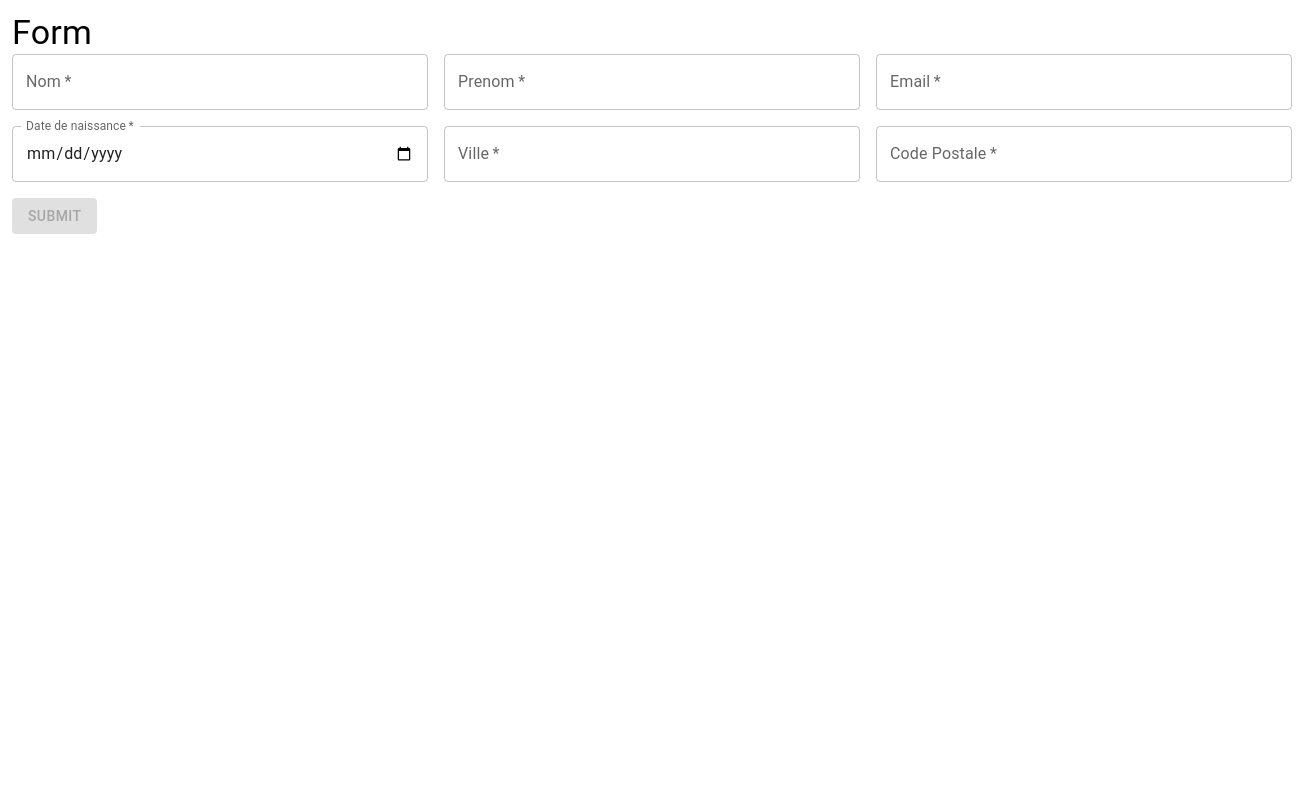
Form coverage tests › affiche le helperText d'erreur sur le champ nom si nom invalide
In the field labelled "Nom *": (220, 82) [12,54,428,110], type "123"
In the field labelled "Prenom *": (652, 82) [444,54,860,110], type "Dupont"
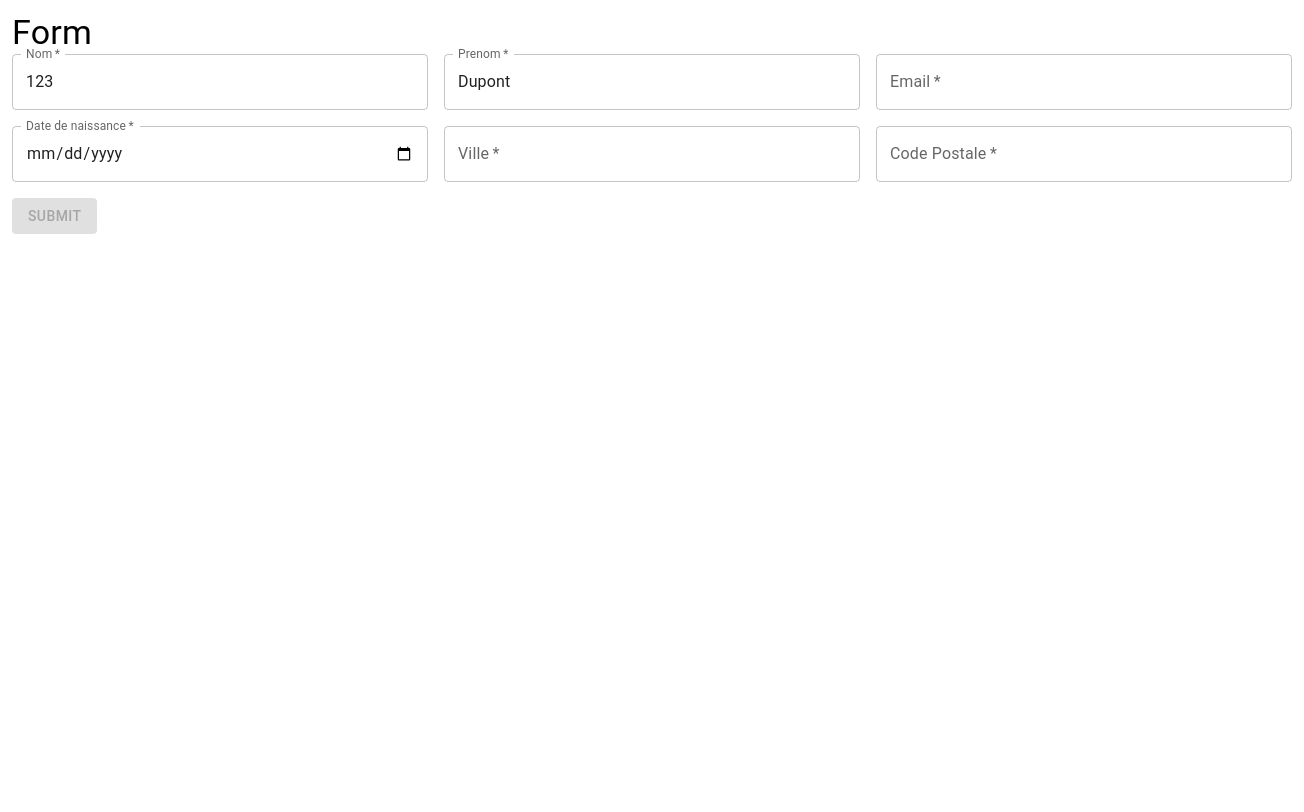
In the field labelled "Email *": (1084, 82) [876,54,1292,110], type "jean@ex.com"
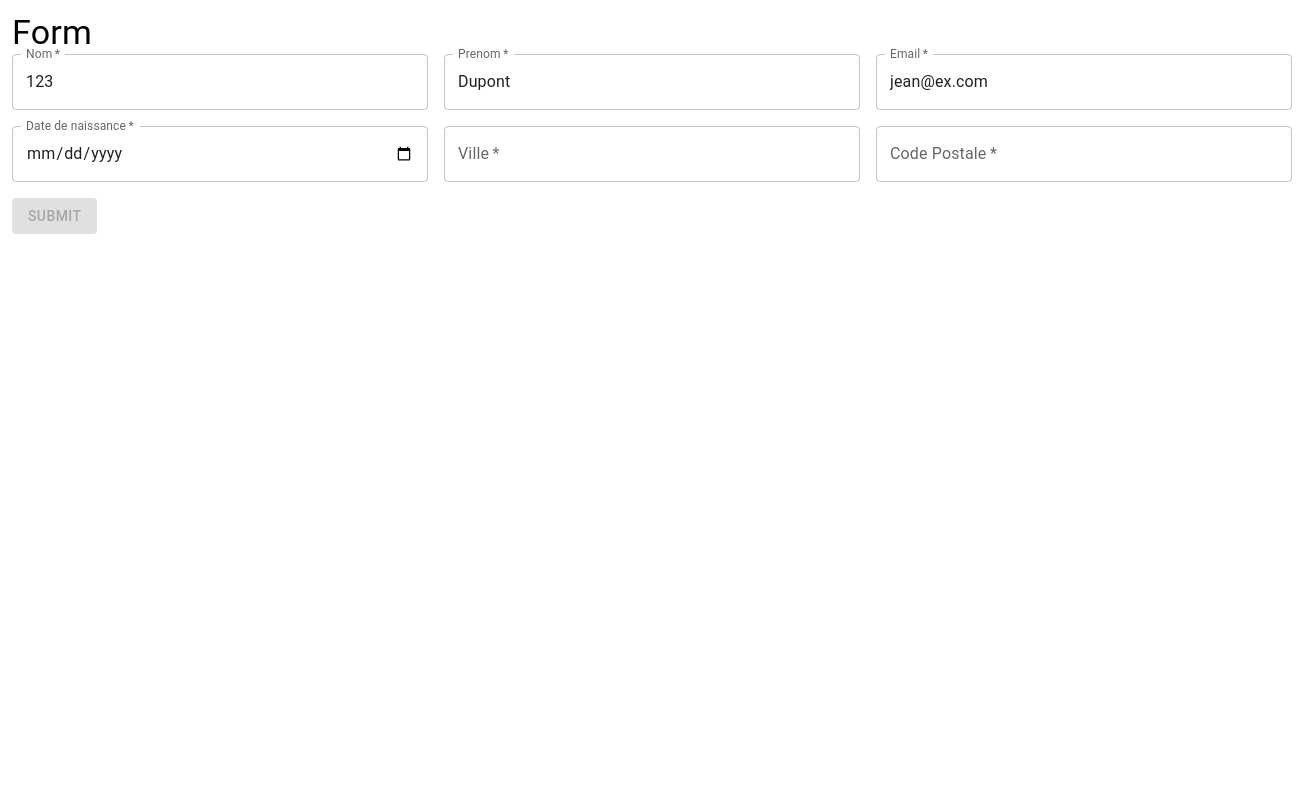
In the date field labelled "Date de naissance *": (220, 154) [12,126,428,182], type "2000-01-01"
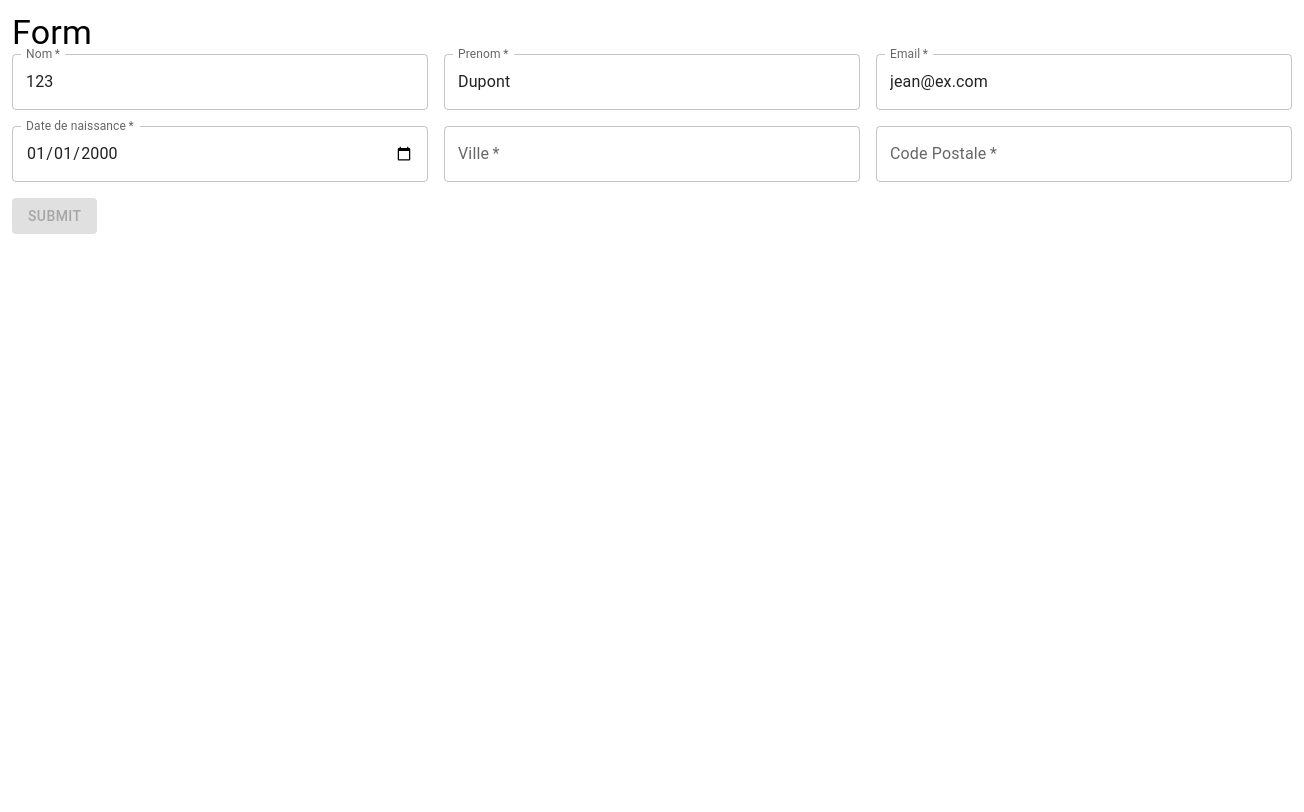
In the field labelled "Ville *": (652, 154) [444,126,860,182], type "Paris"
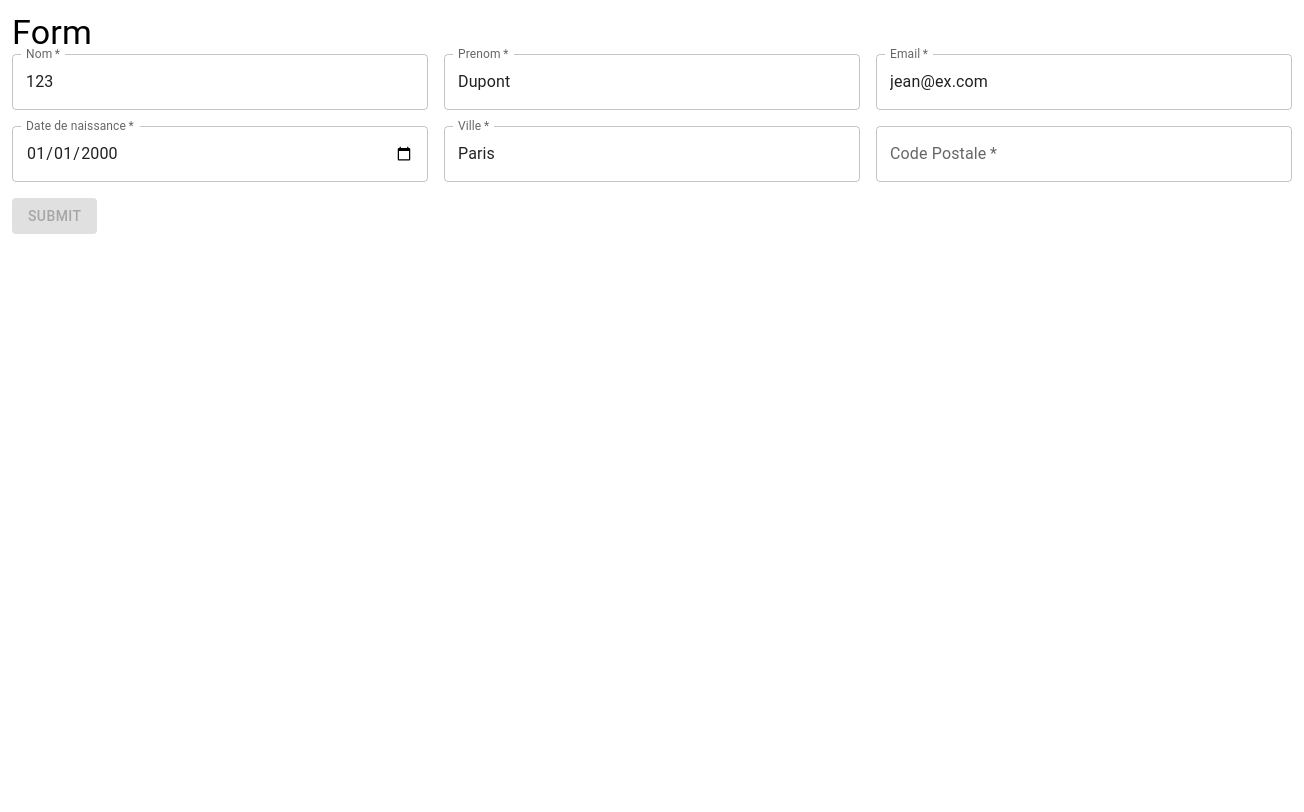
In the field labelled "Code Postale *": (1084, 154) [876,126,1292,182], type "75000"
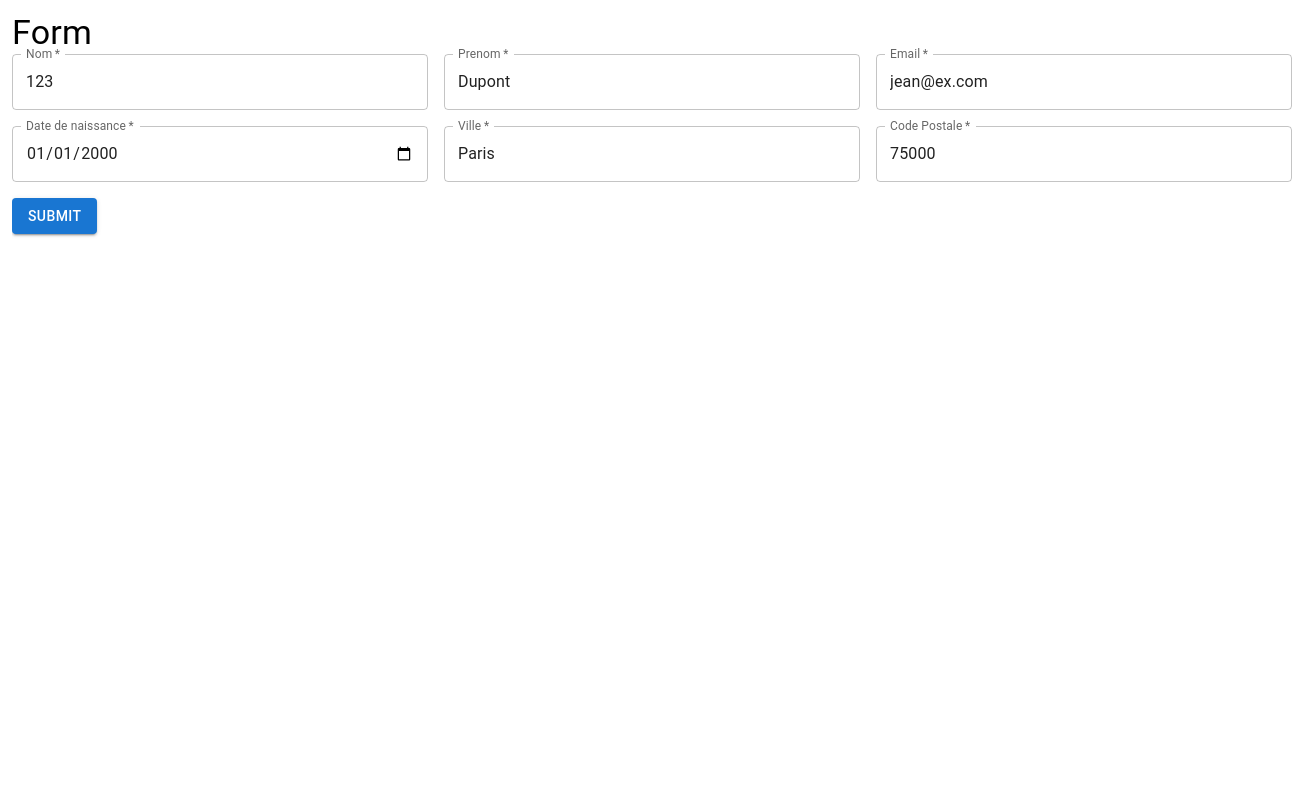
Click the button "Submit": (55, 216) [12,198,97,234]
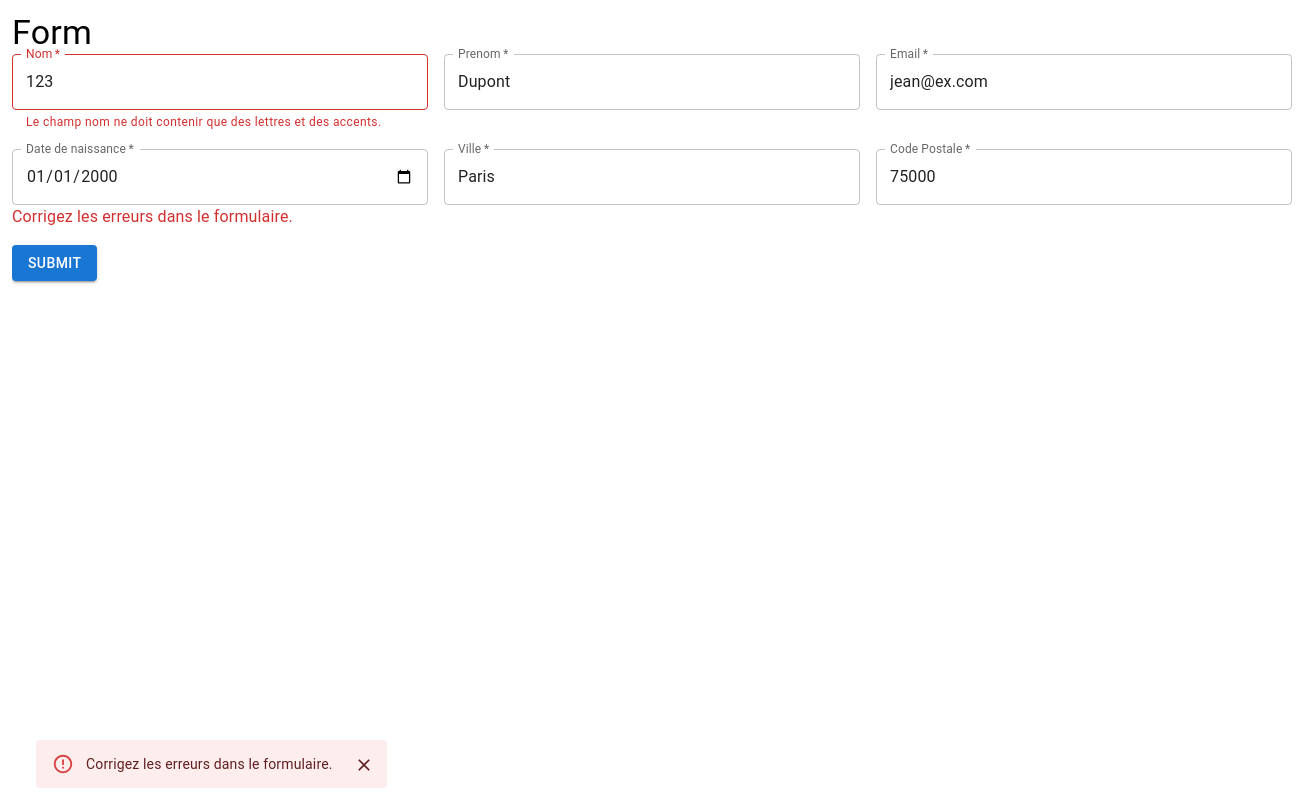
Expected: the text "Le champ nom ne doit contenir que des lettres et des accents." is shown, [26,113,414,133]
